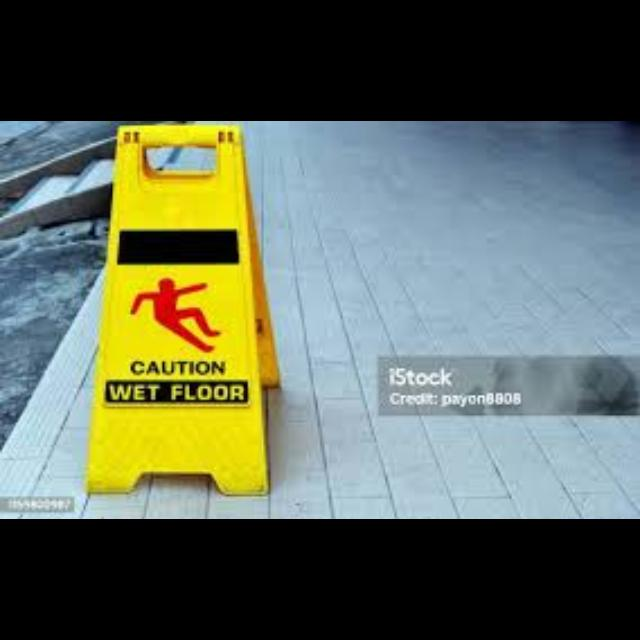tron truot: (88, 126, 277, 495)
